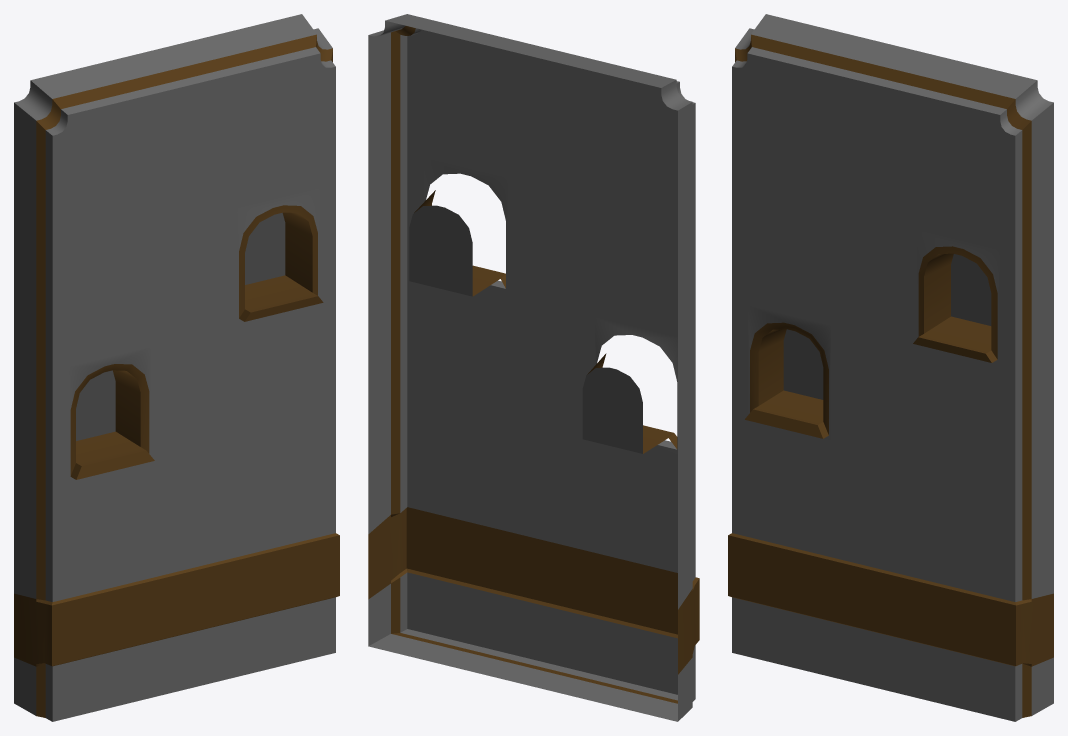
The model's file is cubbyWall.fbx.
The picture shows the model from 3 angles, left to right: view 1: azimuth 30°, elevation 25°; view 2: azimuth 150°, elevation 25°; view 3: azimuth 330°, elevation 25°; orthographic projection.
Parts seen in each view (by area): view 1: Cubby Wall; view 2: Cubby Wall; view 3: Cubby Wall.
Part boxes in pixels (left/top/right/bottom): Cubby Wall: left=14, top=14, right=339, bottom=721; Cubby Wall: left=368, top=14, right=699, bottom=721; Cubby Wall: left=728, top=14, right=1053, bottom=721.
Size of the model in its own units: 223 by 43.18 by 434.
